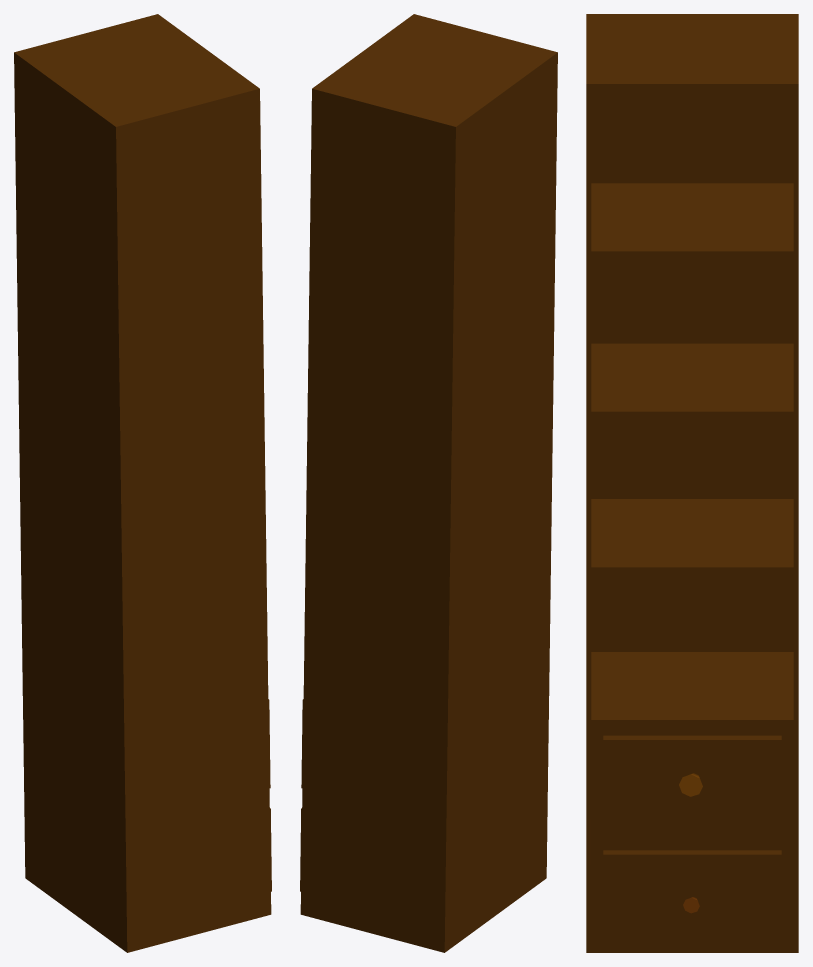
The model's file is book_self.glb.
3 renders of one model, left to right at view 1: azimuth 30°, elevation 25°; view 2: azimuth 150°, elevation 25°; view 3: azimuth 270°, elevation 25°, orthographic. The views are drawn at different scales.
Visible parts, largest first — view 1: Cube; view 2: Cube; view 3: Cube.
Boxes of the visible parts, x1,y1,x2,y2 form: Cube: (14, 14, 271, 952); Cube: (300, 14, 557, 952); Cube: (586, 14, 798, 952).
Size of the model in its own units: 0.4064 by 1.83 by 0.4064.
